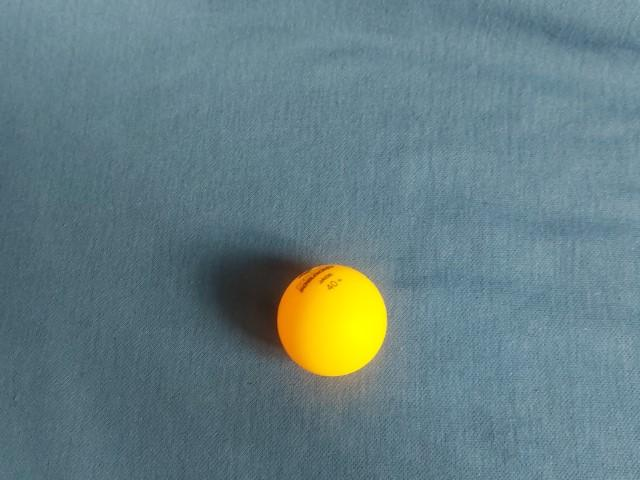oball: (268, 260, 393, 384)
